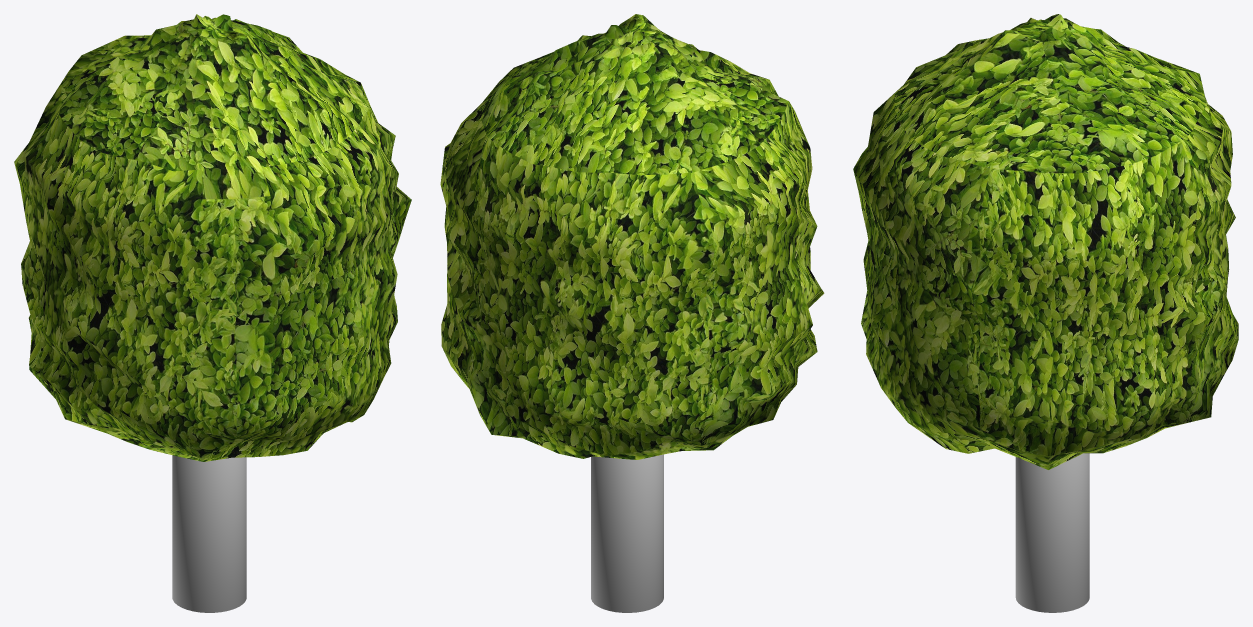
The model's file is shrub.fbx.
3 views of the same model, side by side, from view 1: azimuth 30°, elevation 25°; view 2: azimuth 150°, elevation 25°; view 3: azimuth 270°, elevation 25° (orthographic). The views are drawn at different scales.
Parts seen in each view (by area): view 1: Cylinder, Cylinder.001; view 2: Cylinder, Cylinder.001; view 3: Cylinder, Cylinder.001.
Part boxes in pixels (box(x1,y1,x2,y2)): Cylinder: box(14, 14, 411, 461); Cylinder.001: box(172, 455, 246, 612); Cylinder: box(440, 14, 824, 459); Cylinder.001: box(591, 454, 663, 612); Cylinder: box(853, 14, 1238, 469); Cylinder.001: box(1015, 453, 1089, 612).
Size of the model in its own units: 208 by 344 by 208.
